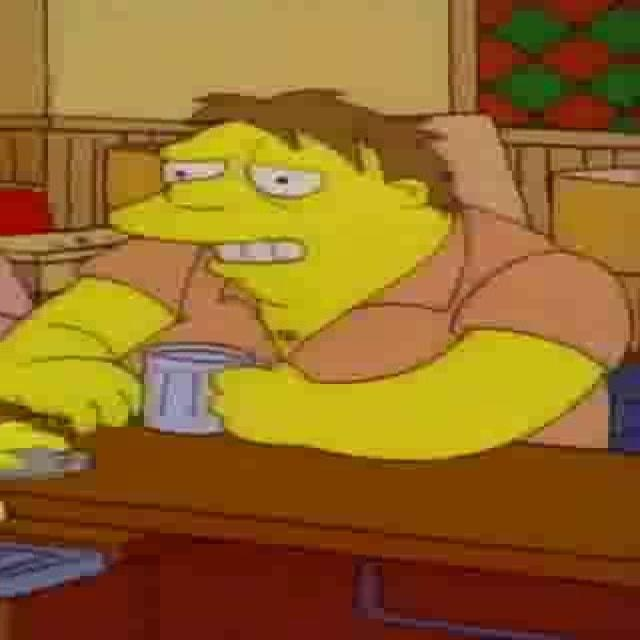Barney Gumble: (102, 89, 458, 314)
